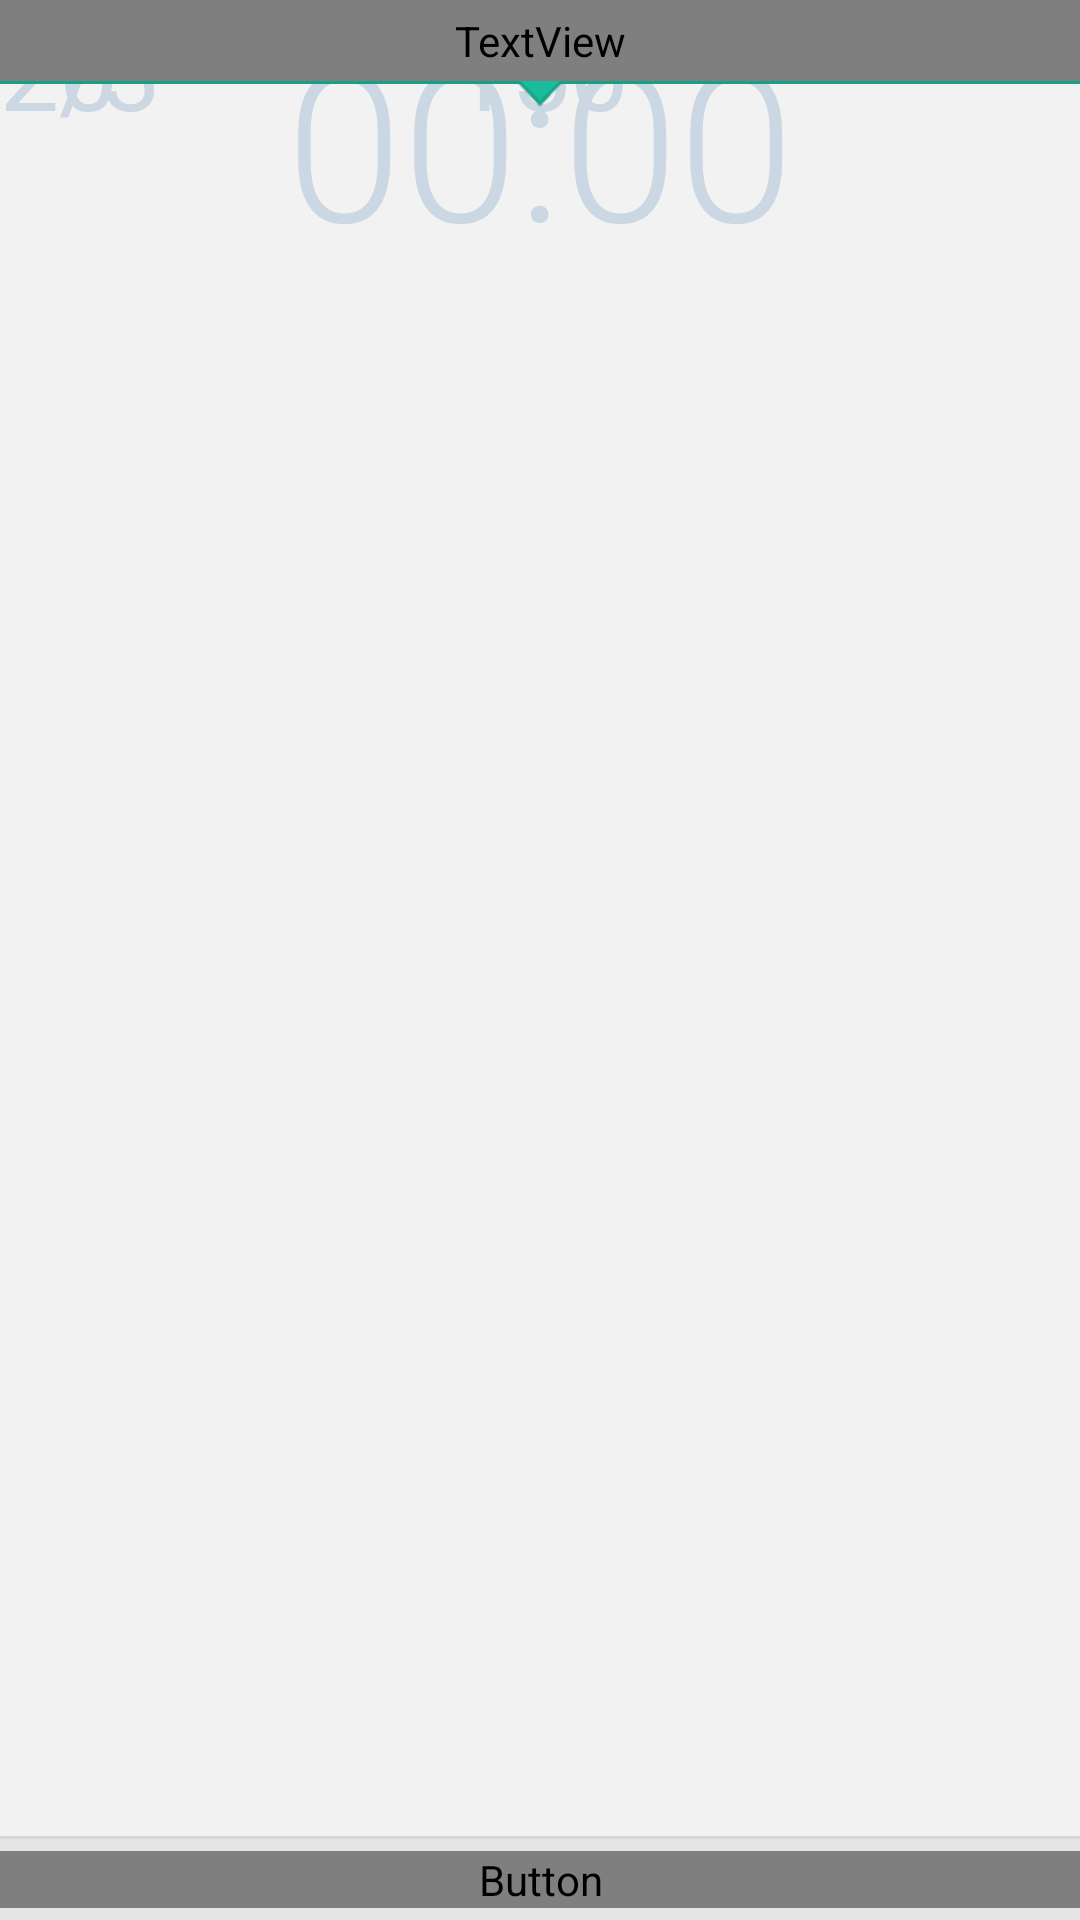

Where to tap for icons on this 1080 × 1920 app screen, as [x,y]:
down arrow: [540,94]
